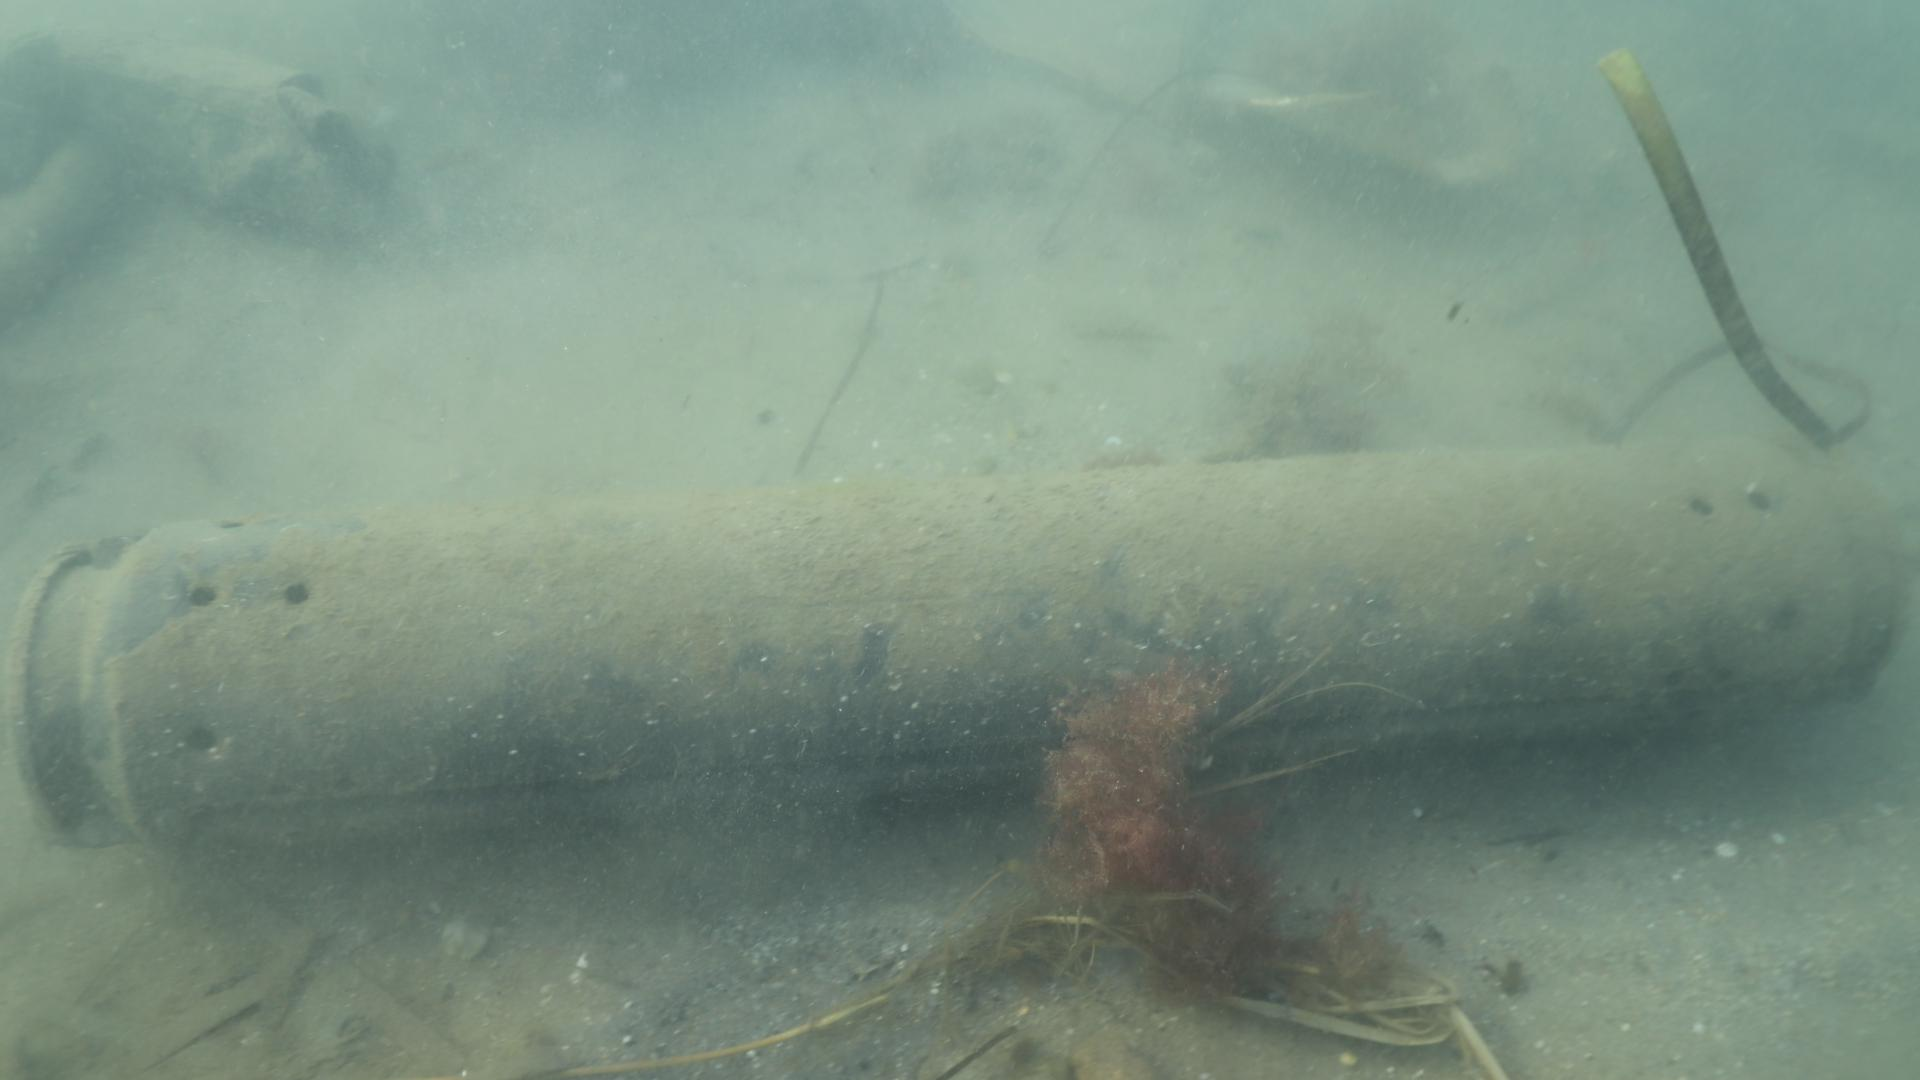eel fish trap: (18, 455, 1902, 844)
